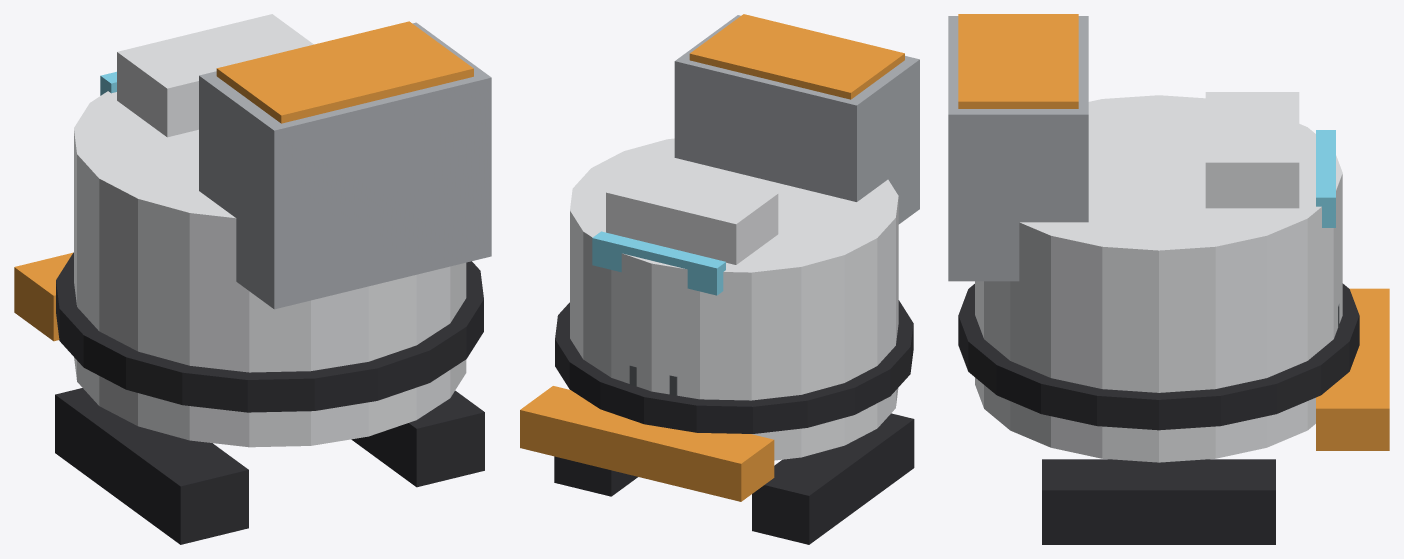
The model's file is SM_Unit_HarvesterBot.fbx.
3 views of the same model, side by side, from view 1: azimuth 30°, elevation 25°; view 2: azimuth 150°, elevation 25°; view 3: azimuth 270°, elevation 25° (orthographic). The views are drawn at different scales.
Visible parts, largest first — view 1: SM_Unit_HarvesterBot; view 2: SM_Unit_HarvesterBot; view 3: SM_Unit_HarvesterBot.
Boxes of the visible parts, x1,y1,x2,y2 form: SM_Unit_HarvesterBot: [14, 14, 491, 544]; SM_Unit_HarvesterBot: [520, 14, 919, 544]; SM_Unit_HarvesterBot: [948, 14, 1389, 544].
Bounding box in the file's own units: 1.2 × 1.38 × 1.32.
